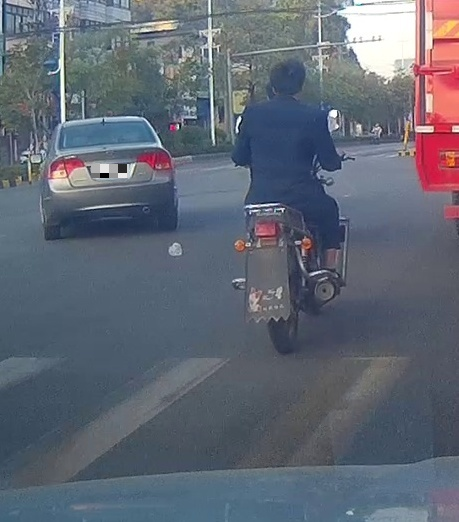L_light: (47, 156, 85, 179)
R_light: (136, 149, 173, 170)
T_light: (94, 121, 112, 127)
day-left: (40, 116, 179, 242)
plate_1: (91, 164, 129, 178)
